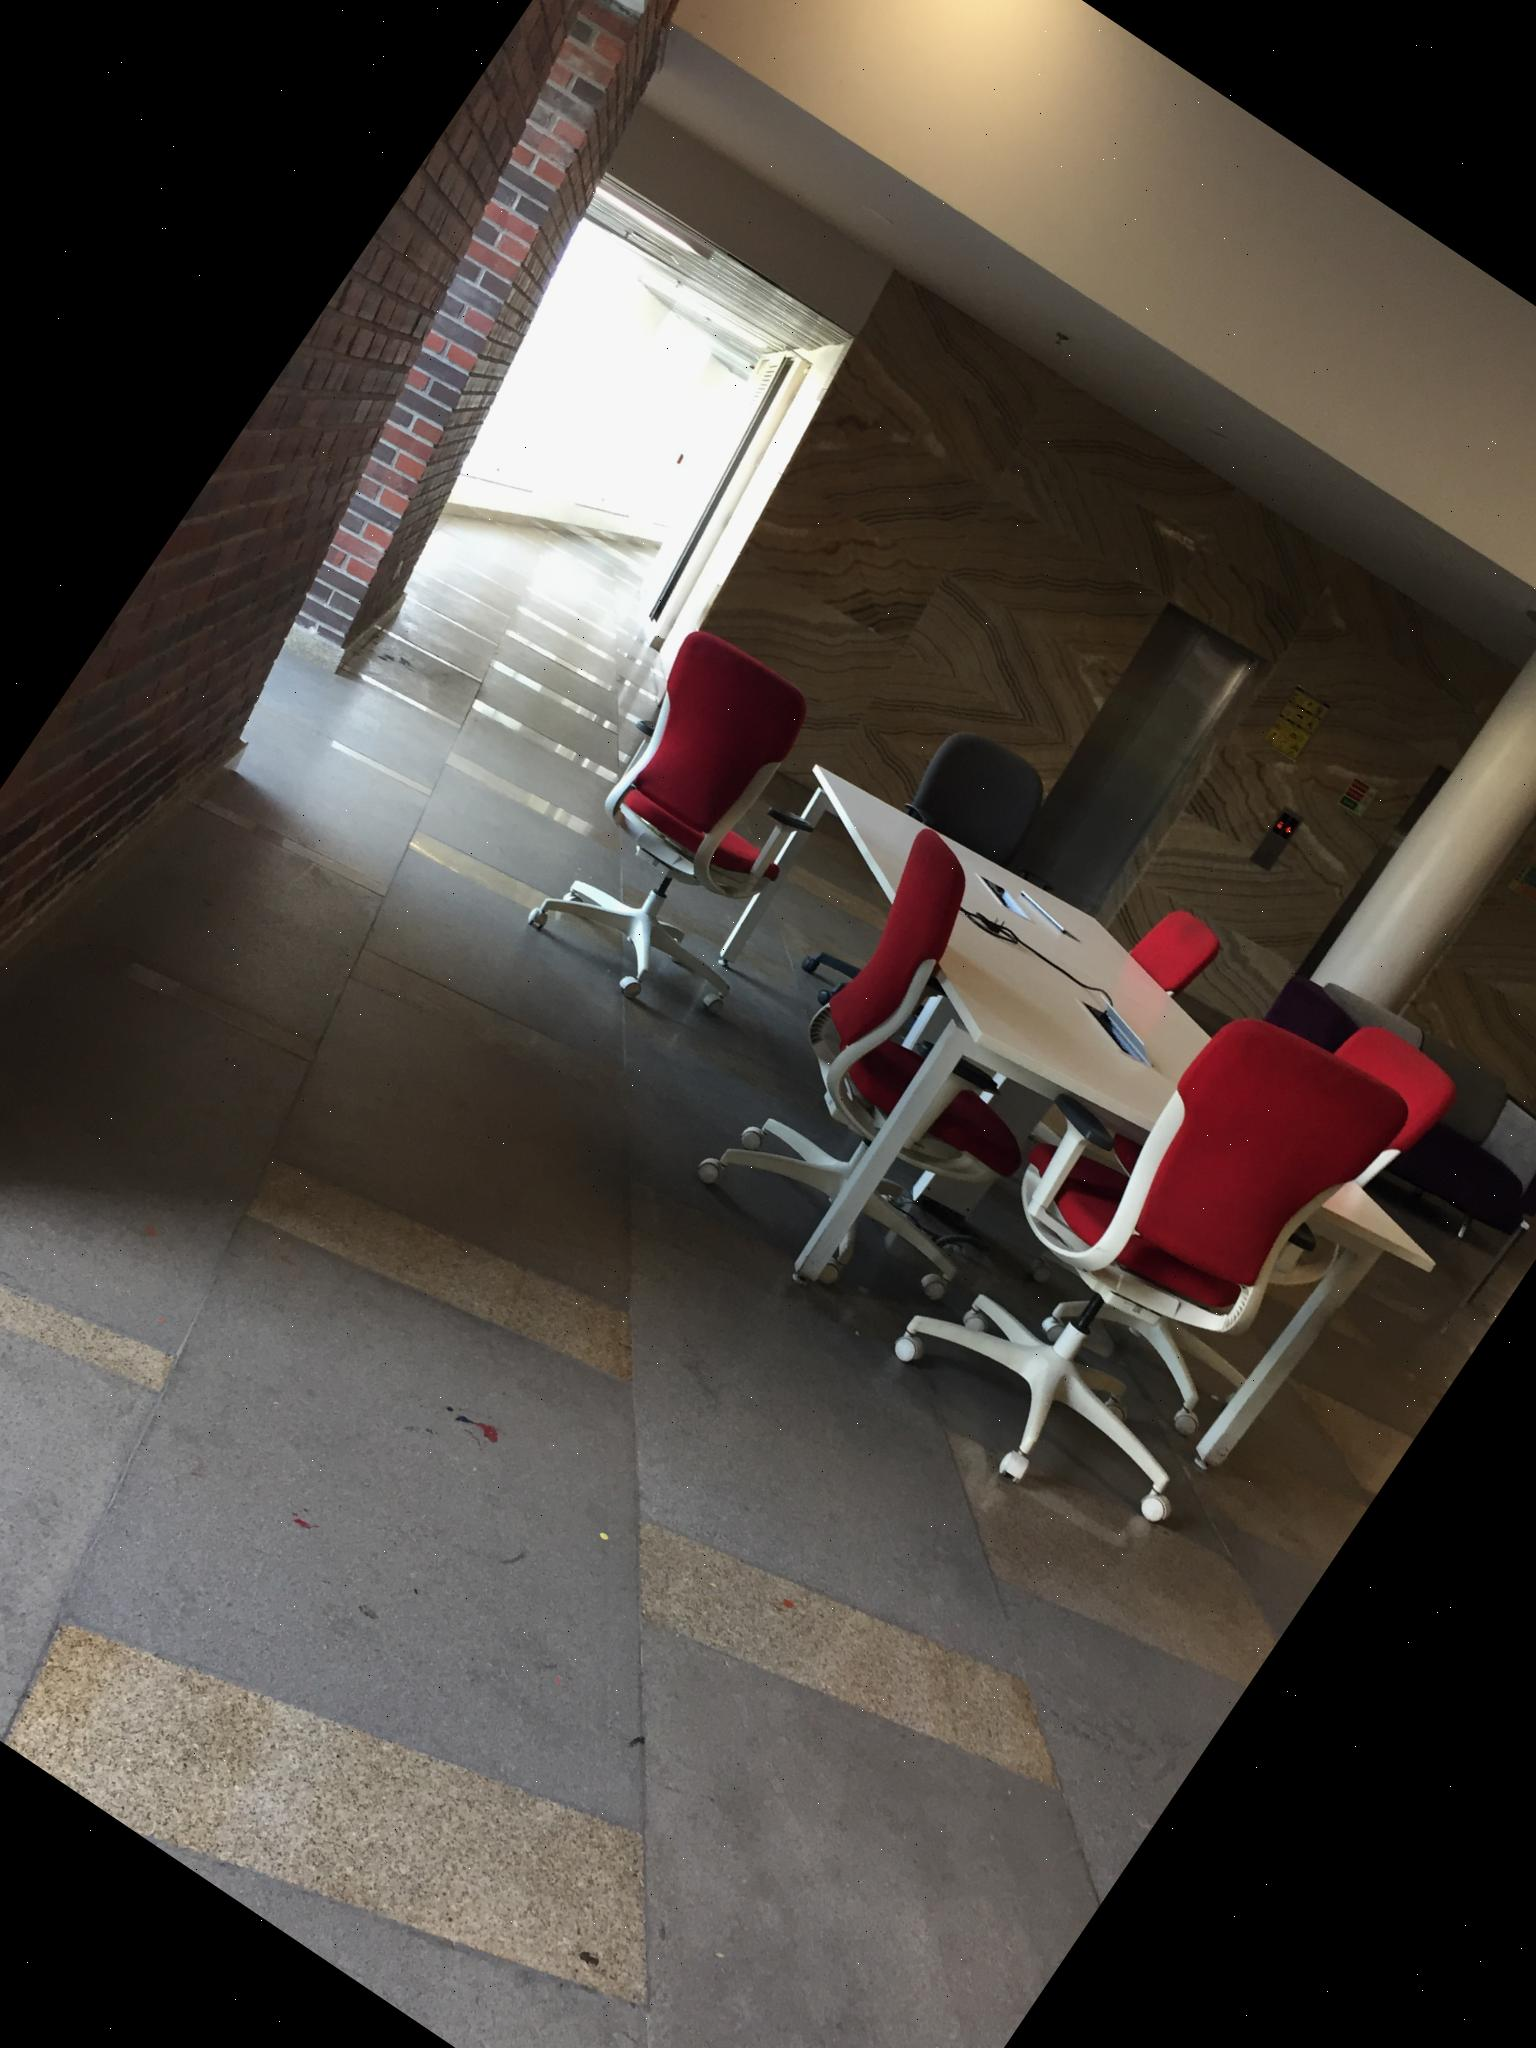chair: (865, 935, 1436, 1564), (671, 821, 1157, 1350), (500, 618, 894, 1042), (891, 706, 1081, 890), (1117, 880, 1238, 1009)
